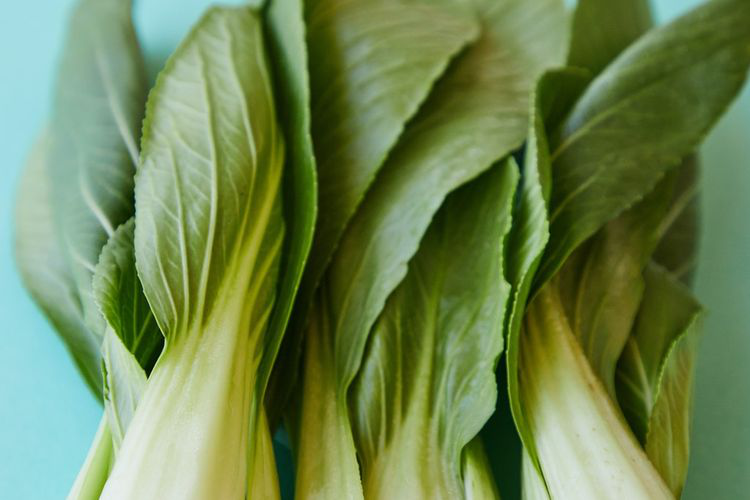Sawi: (138, 11, 718, 486)
